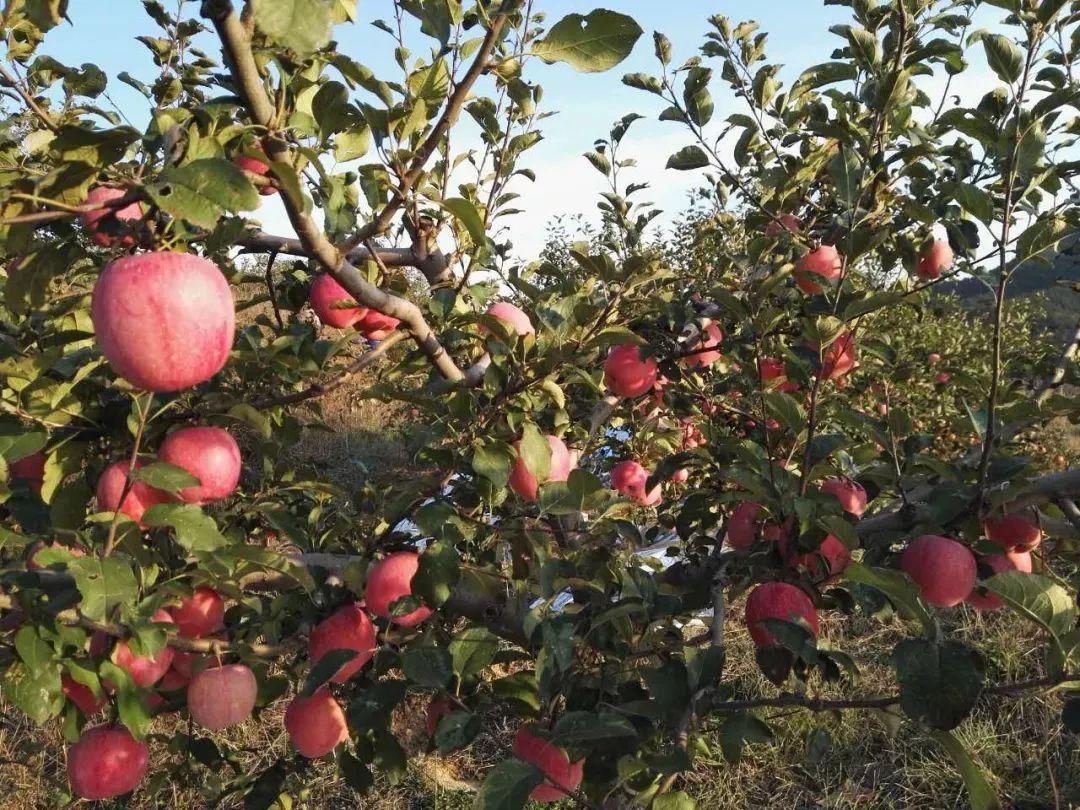apple: (96, 250, 235, 390), (66, 717, 154, 799), (160, 421, 241, 502), (901, 534, 974, 608), (186, 658, 258, 731), (601, 343, 661, 397), (608, 459, 645, 501)
